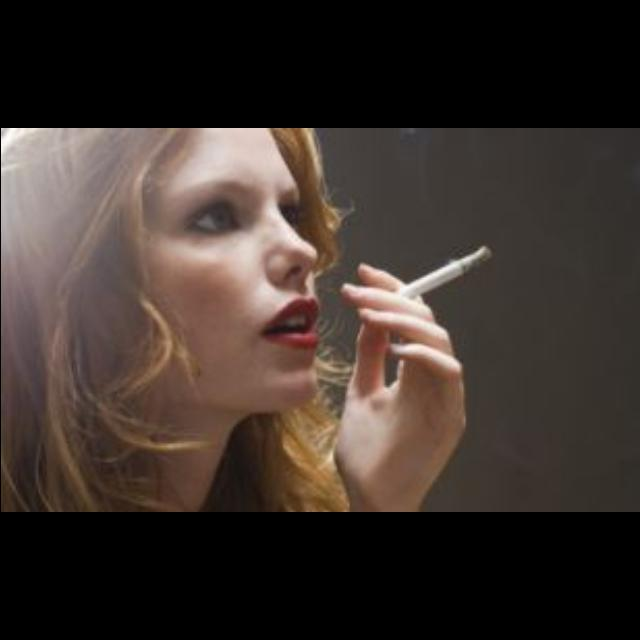rokok: (344, 245, 496, 309)
